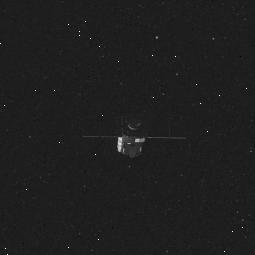soho: (82, 109, 183, 163)
